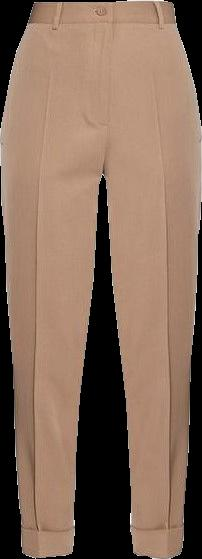Hemline: (21, 547, 72, 558), (131, 548, 184, 558)
Pantleg: (0, 2, 105, 557), (103, 0, 201, 558)
Waistline: (27, 5, 176, 28), (33, 0, 172, 7)
